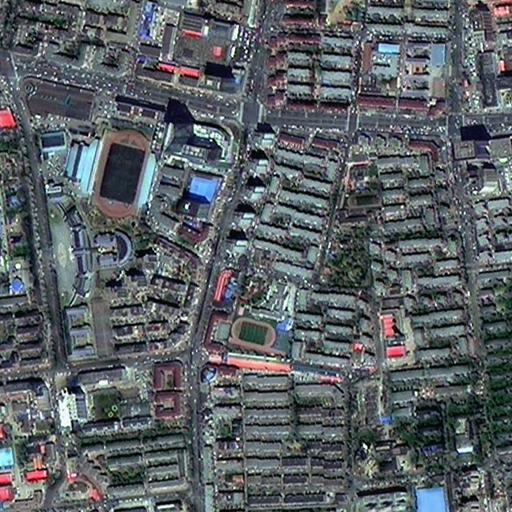school: (28, 121, 155, 363), (225, 272, 298, 362), (336, 184, 386, 228)
